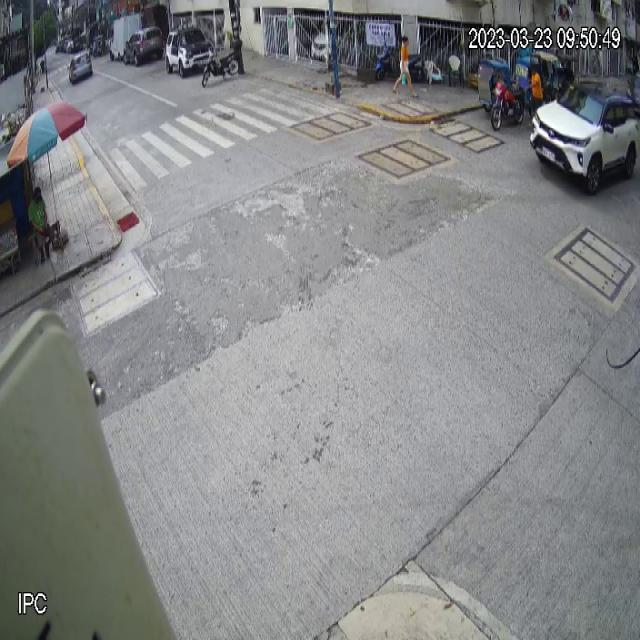Car: (528, 75, 640, 197)
Tricycle: (477, 56, 526, 130)
